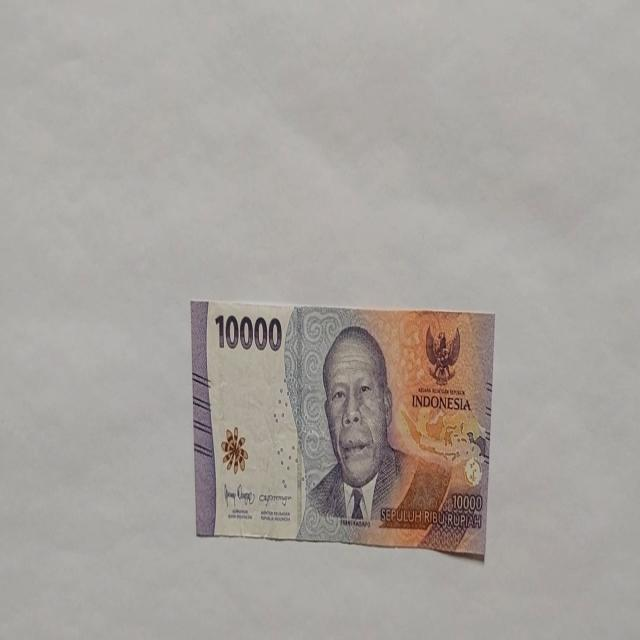sepuluh ribu rupiah: (190, 297, 496, 559)
